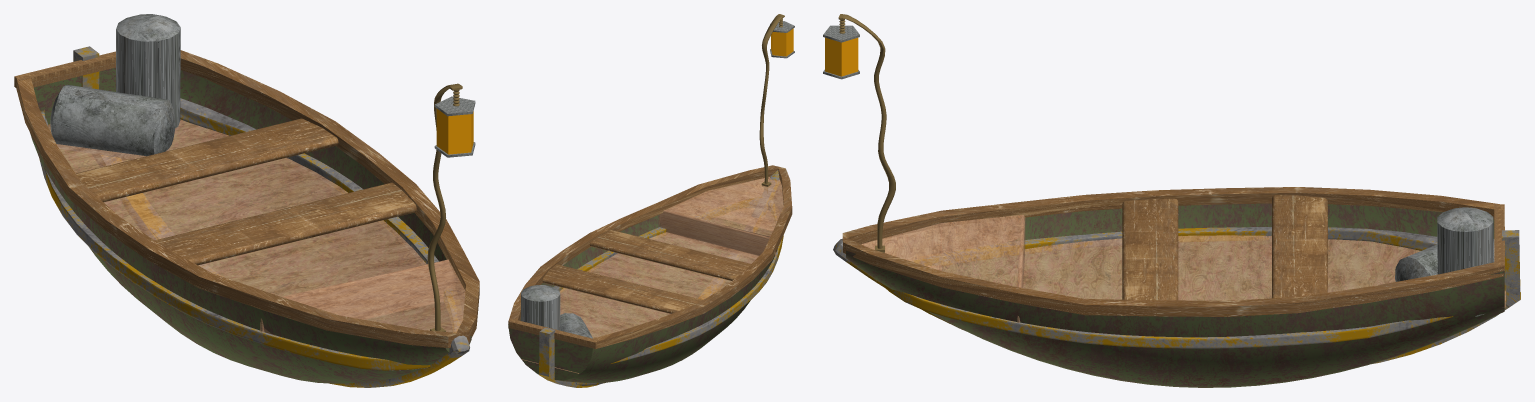
The model's file is boat.obj.
3 views of the same model, side by side, from view 1: azimuth 30°, elevation 25°; view 2: azimuth 150°, elevation 25°; view 3: azimuth 270°, elevation 25° (orthographic). The views are drawn at different scales.
Parts seen in each view (by area): view 1: Cylinder001, Plane001, Box004, ChamferBox003, ChamferBox001, Box005, OilTank003, Box007, OilTank001, ChamferBox002, Box008, Box001 (+6 smaller); view 2: Cylinder001, Plane001, Box004, Box005, ChamferBox001, ChamferBox003, ChamferBox002, Box007, OilTank001, Box008, Box001, Cylinder005 (+5 smaller); view 3: Cylinder001, Plane001, Box005, Box004, Box008, ChamferBox001, ChamferBox003, Box007, OilTank001, Cylinder005, Cylinder003, OilTank003 (+3 smaller).
Part boxes in pixels (x1,y1,x2,y2): Cylinder001: [30, 67, 471, 383]; Plane001: [48, 119, 465, 335]; Box004: [16, 73, 461, 348]; ChamferBox003: [76, 118, 338, 202]; ChamferBox001: [154, 182, 416, 265]; Box005: [180, 50, 479, 342]; OilTank003: [50, 84, 175, 159]; Box007: [39, 109, 430, 370]; OilTank001: [116, 14, 180, 130]; ChamferBox002: [260, 259, 452, 332]; Box008: [180, 98, 460, 366]; Box001: [120, 194, 469, 387]; Cylinder001: [508, 215, 777, 382]; Plane001: [521, 177, 783, 373]; Box004: [587, 166, 792, 349]; Box005: [508, 165, 780, 327]; ChamferBox001: [590, 230, 750, 280]; ChamferBox003: [542, 264, 702, 313]; ChamferBox002: [659, 210, 776, 258]; Box007: [611, 200, 783, 363]; OilTank001: [521, 285, 560, 330]; Box008: [553, 197, 760, 293]; Box001: [576, 170, 779, 385]; Cylinder005: [759, 14, 784, 193]; Cylinder001: [846, 203, 1504, 387]; Plane001: [861, 215, 1505, 307]; Box005: [843, 236, 1503, 316]; Box004: [842, 187, 1503, 244]; Box008: [879, 282, 1453, 348]; ChamferBox001: [1122, 198, 1178, 300]; ChamferBox003: [1272, 195, 1327, 298]; Box007: [876, 227, 1437, 281]; OilTank001: [1437, 207, 1493, 316]; Cylinder005: [838, 14, 895, 248]; Cylinder003: [825, 37, 858, 76]; OilTank003: [1395, 239, 1494, 281].
Bounding box in the file's own units: 0.6035 × 0.8613 × 1.5.
Materials: 8 (8 with a texture image).
